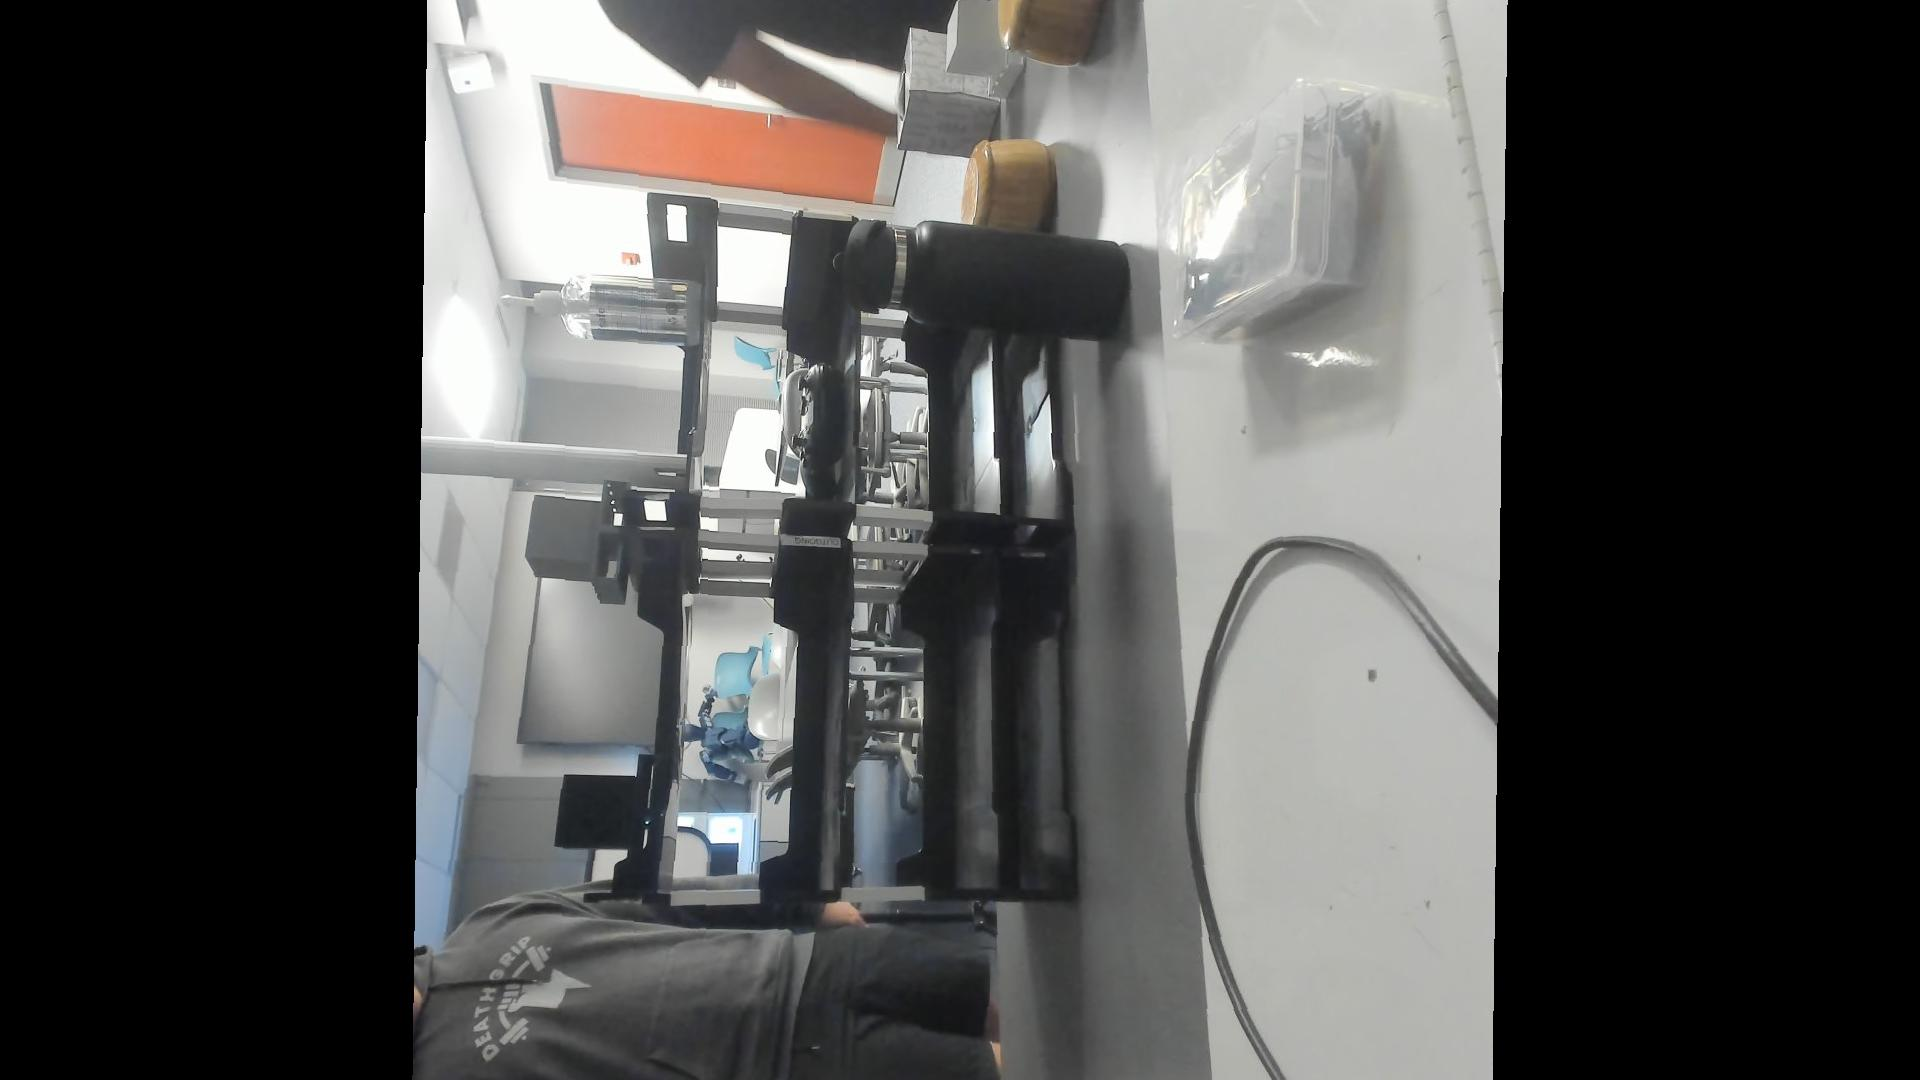black pallet: (550, 748, 666, 858)
grey pallet: (521, 476, 644, 609)
white pallet: (943, 1, 1026, 104)
